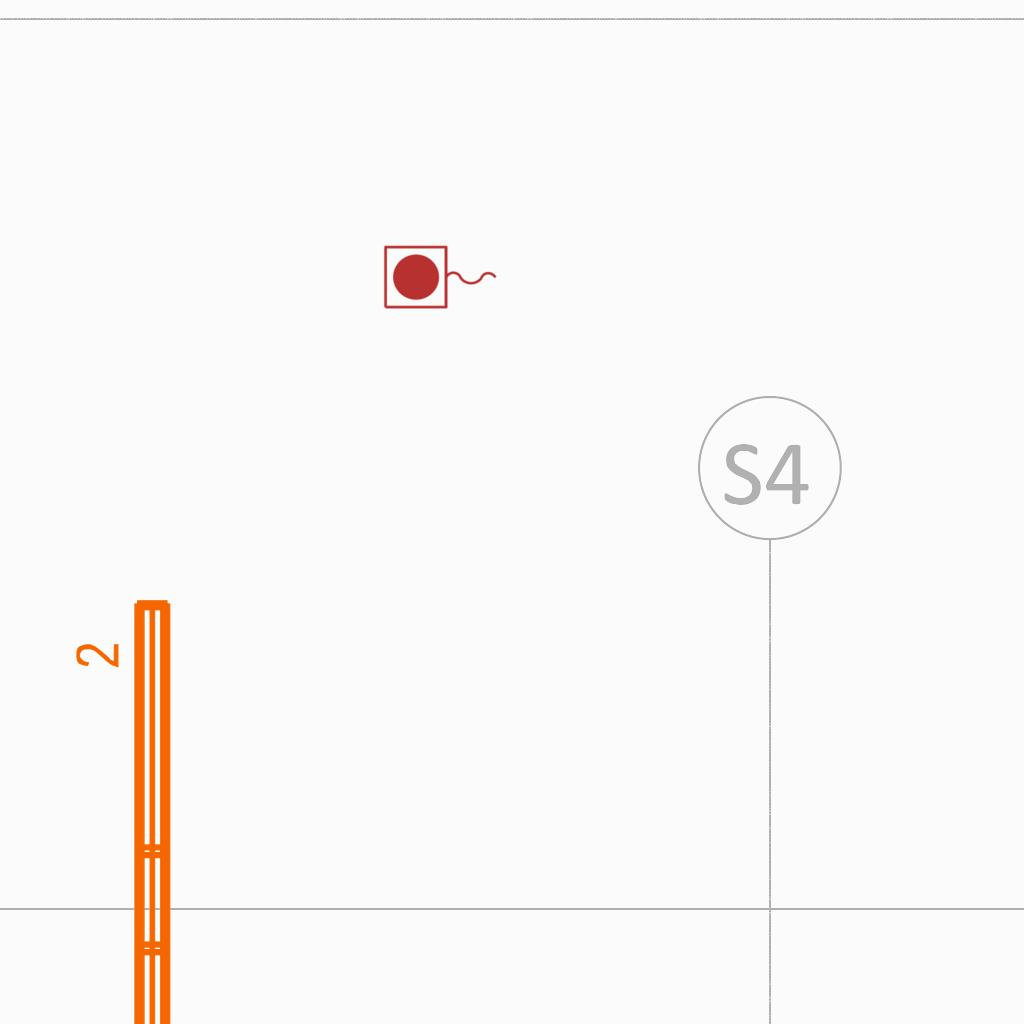Ambulanz_Pendelleuchte_LED: (71, 591, 183, 1024)
Zugtaster: (380, 242, 502, 314)
